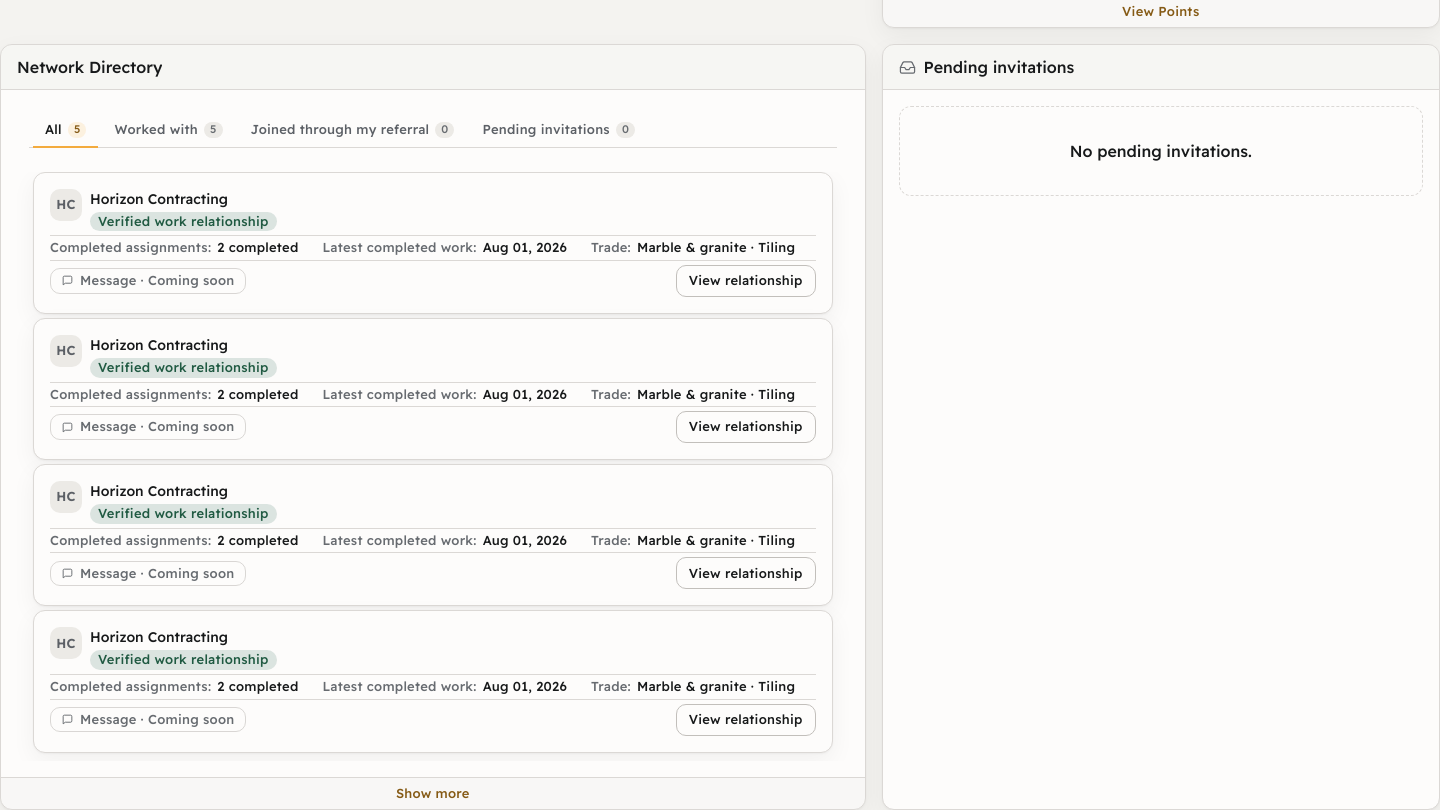
it: NetworkPage — Network Directory (§5/§6/§9 of the visual-correction pass) › Show more reveals the remaining rows and then removes itself
(page scrolled)
Click the button with test id "network-show-more" at x=433, y=793, box [396,786,470,801]
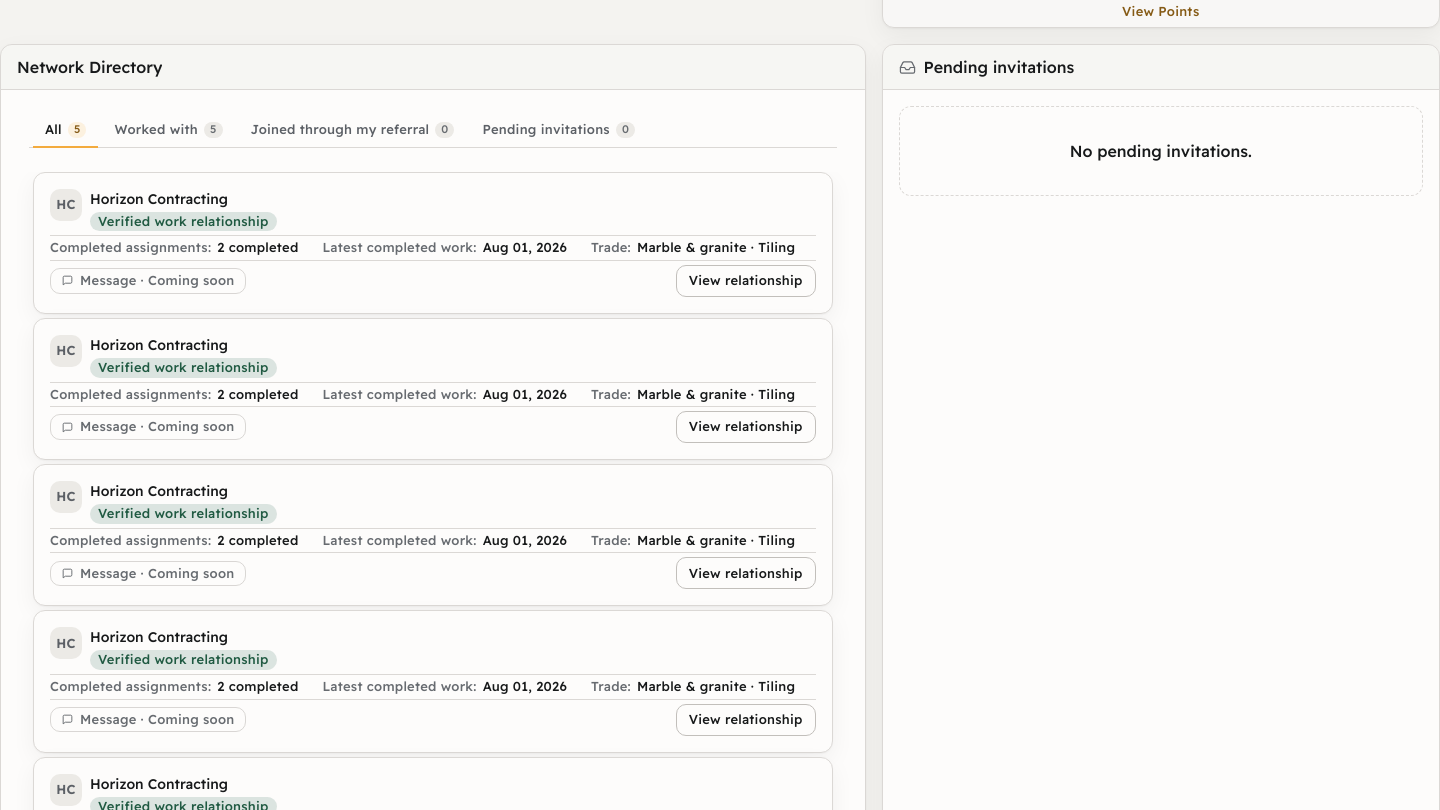
Expected: the button with test id "network-show-more" is gone
